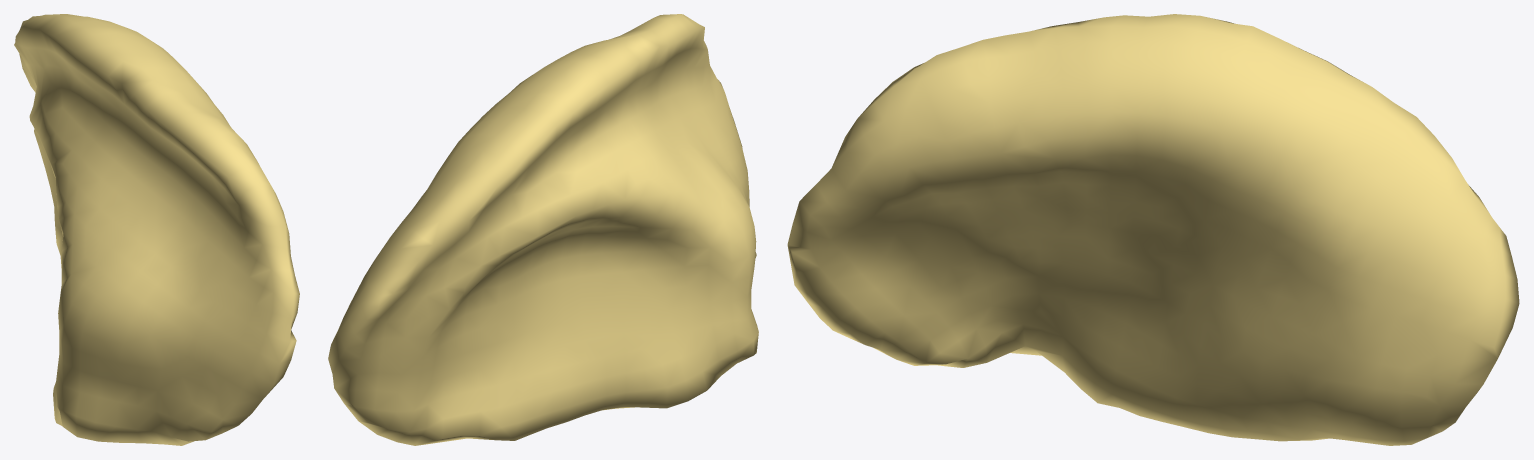
3 renders of one model, left to right at view 1: azimuth 30°, elevation 25°; view 2: azimuth 150°, elevation 25°; view 3: azimuth 270°, elevation 25°, orthographic. The views are drawn at different scales.
Visible parts, largest first — view 1: ZA_55ae0f69aebf77c8; view 2: ZA_55ae0f69aebf77c8; view 3: ZA_55ae0f69aebf77c8.
Boxes of the visible parts, bbox=[...] form: ZA_55ae0f69aebf77c8: bbox=[14, 14, 299, 445]; ZA_55ae0f69aebf77c8: bbox=[328, 14, 758, 445]; ZA_55ae0f69aebf77c8: bbox=[787, 14, 1519, 445].
Bounding box in the file's own units: 0.0222 × 0.0321 × 0.0523.
